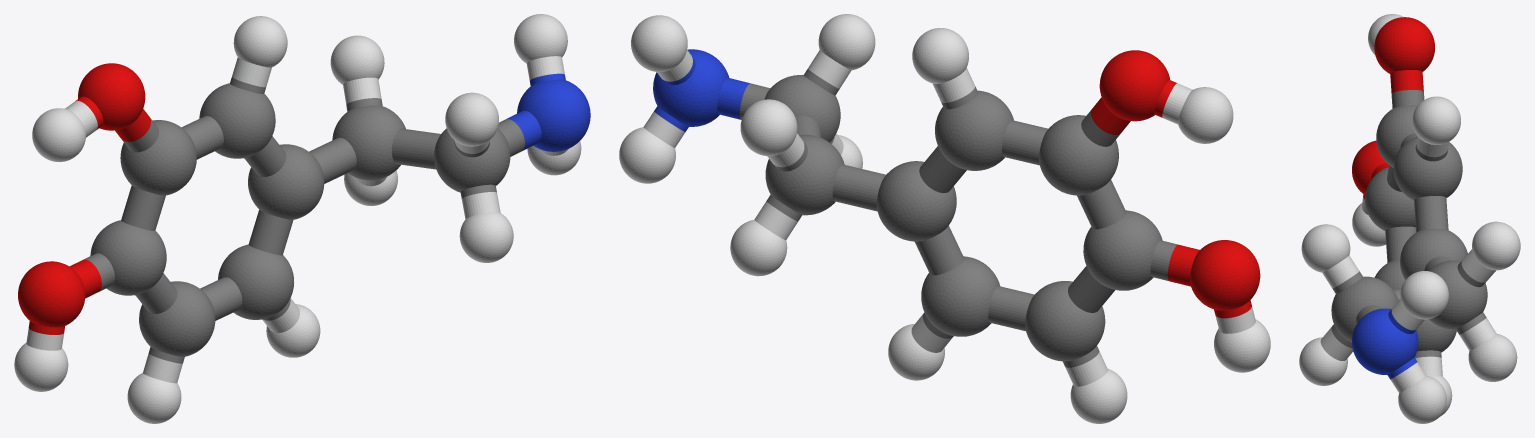
The model's file is dopamina.glb.
The picture shows the model from 3 angles, left to right: view 1: azimuth 30°, elevation 25°; view 2: azimuth 150°, elevation 25°; view 3: azimuth 270°, elevation 25°; orthographic projection. The views are drawn at different scales.
Parts seen in each view (by area): view 1: atoms; view 2: atoms; view 3: atoms.
Part boxes in pixels (x1=…): atoms: x1=14, y1=14, x2=590, y2=423; atoms: x1=619, y1=14, x2=1270, y2=423; atoms: x1=1299, y1=14, x2=1520, y2=423.
Bounding box in the file's own units: 9.02 × 5.32 × 3.27.
